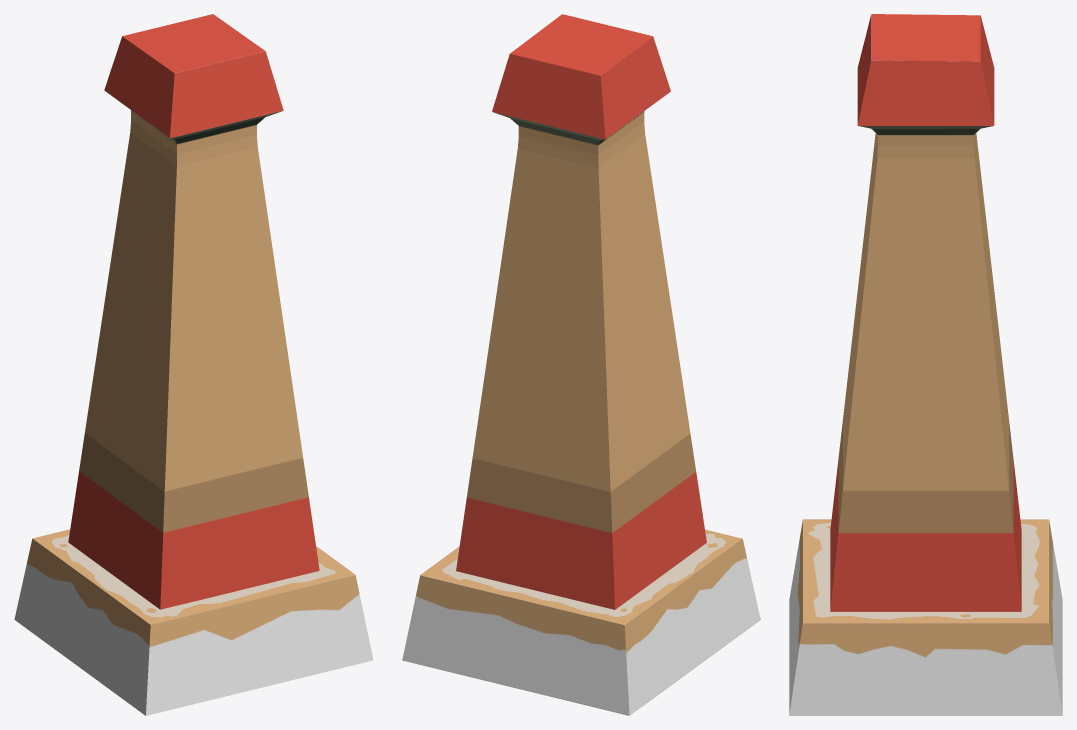
File: pillarTwo.fbx
The picture shows the model from 3 angles, left to right: view 1: azimuth 30°, elevation 25°; view 2: azimuth 150°, elevation 25°; view 3: azimuth 270°, elevation 25°; orthographic projection. The views are drawn at different scales.
Parts seen in each view (by area): view 1: Pillar; view 2: Pillar; view 3: Pillar.
Part boxes in pixels (left/top/right/bottom): Pillar: left=14, top=14, right=373, bottom=715; Pillar: left=402, top=14, right=760, bottom=715; Pillar: left=789, top=14, right=1062, bottom=715.
Size of the model in its own units: 2 by 5.01 by 2.
